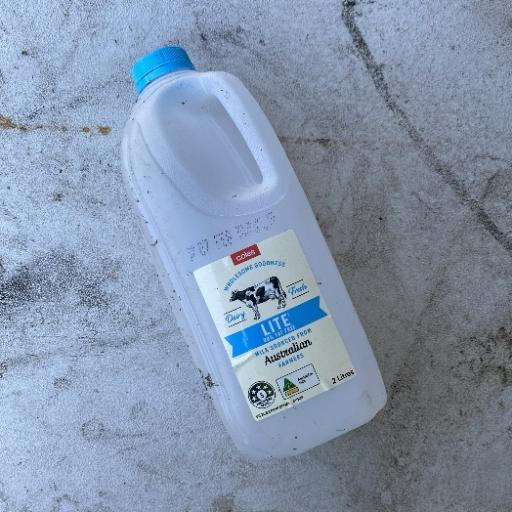Plastic: (118, 44, 390, 460)
